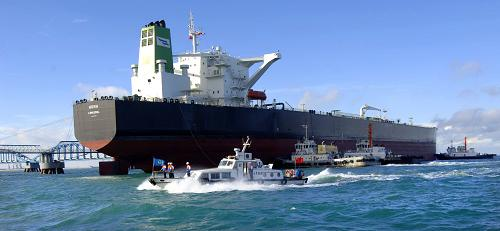Cargoship: (69, 24, 439, 169)
otherboat: (148, 136, 310, 194), (284, 129, 379, 168), (341, 136, 420, 165), (434, 138, 498, 162)
